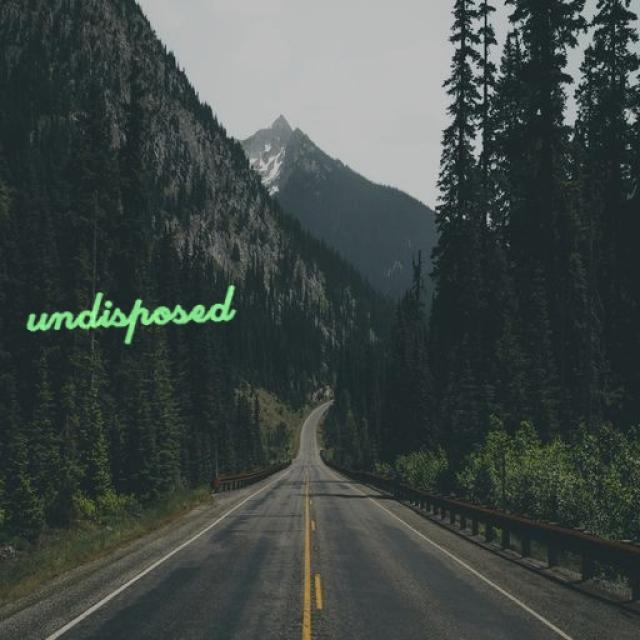watermark: (17, 284, 235, 337)
